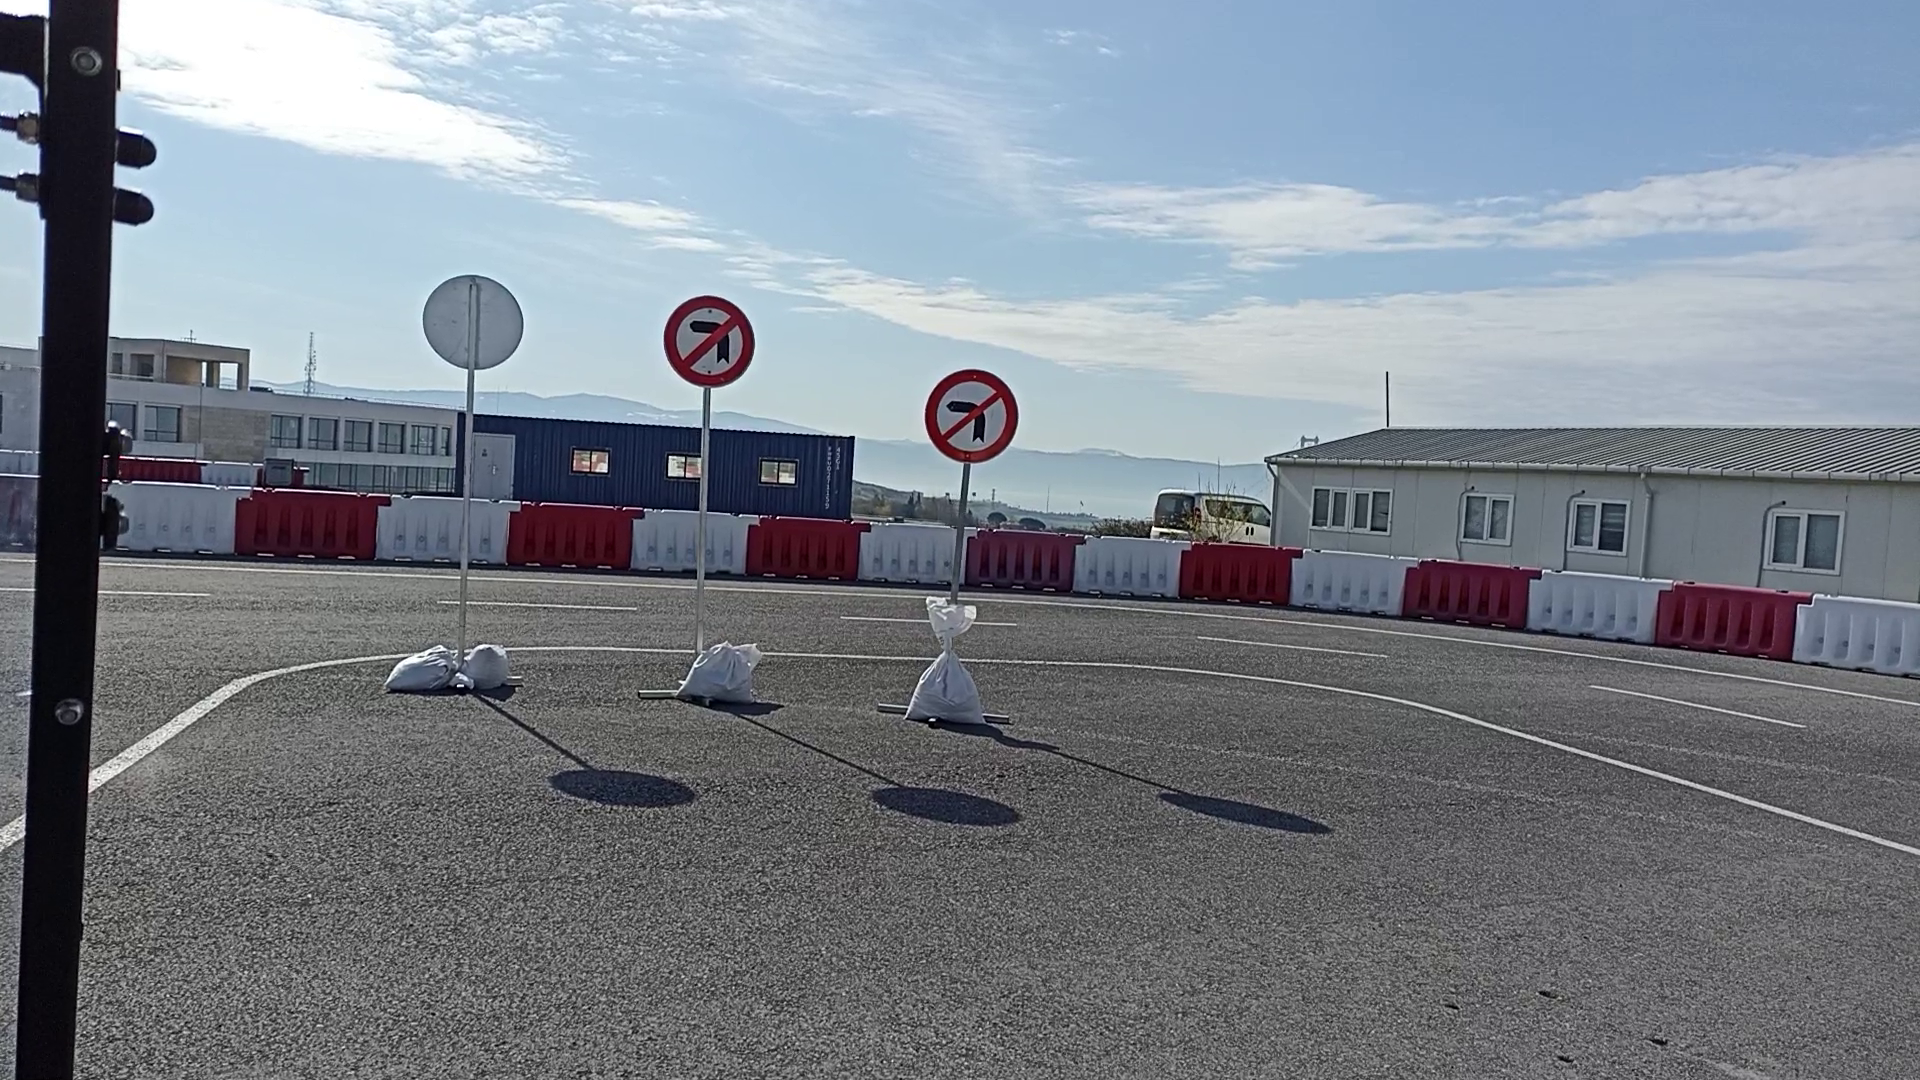noleft: (923, 367, 1021, 464), (663, 293, 757, 390)
